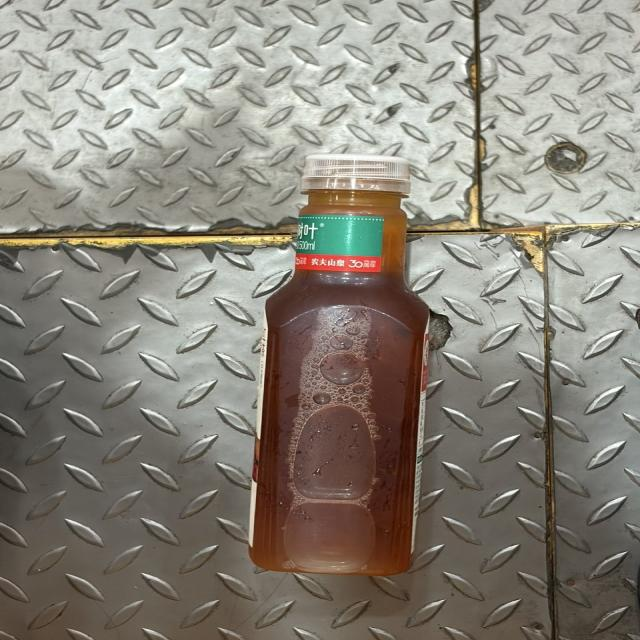high: (249, 154, 429, 575)
